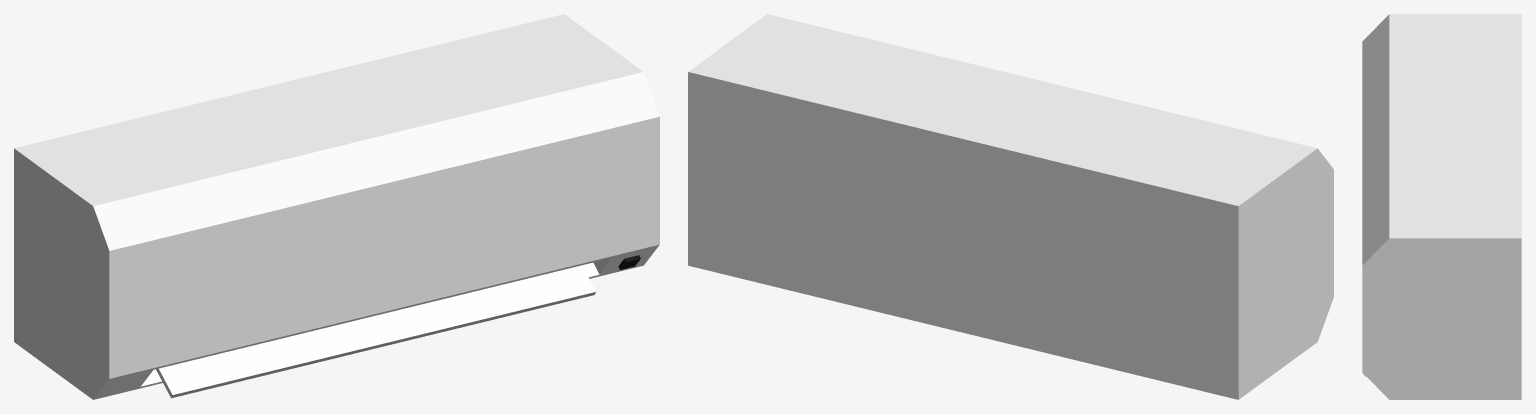
Rendered from conditioner.fbx.
3 renders of one model, left to right at view 1: azimuth 30°, elevation 25°; view 2: azimuth 150°, elevation 25°; view 3: azimuth 270°, elevation 25°, orthographic. The views are drawn at different scales.
Parts seen in each view (by area): view 1: conditioner; view 2: conditioner; view 3: conditioner.
Part boxes in pixels (box(x1,y1,x2,y2)): conditioner: box(14, 14, 659, 399); conditioner: box(688, 14, 1333, 399); conditioner: box(1362, 14, 1521, 399).
Bounding box in the file's own units: 2 × 0.6841 × 0.5999.
1 material, 1 textured.
